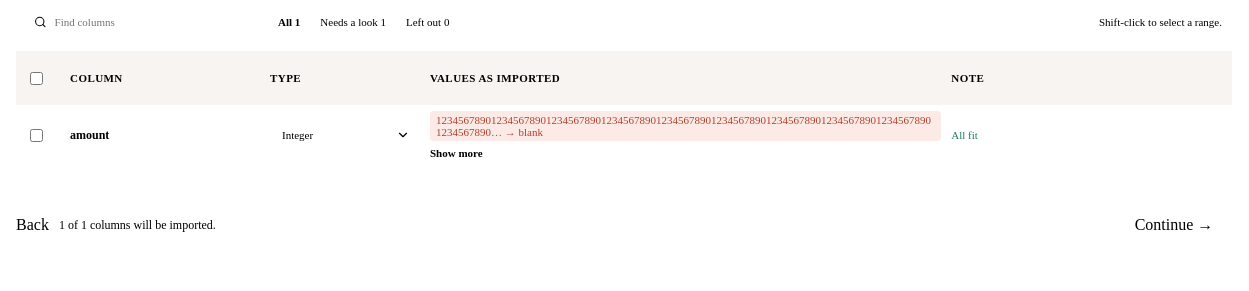
TableImportFlow › labels oversized samples as source excerpts and preserves the exact invalid outcome
Click the button with aria-label "Show more for amount" at [456, 153], box top-left (430, 147), bottom-right (483, 159)
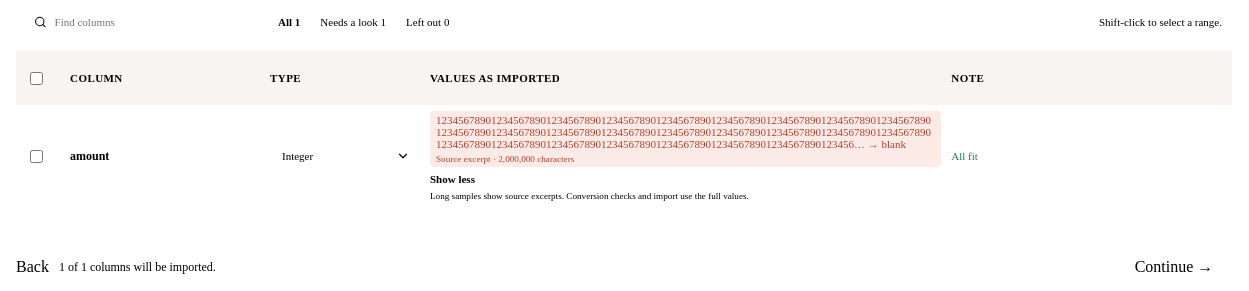
expect the text "Source excerpt · 2,000,000 characters" is shown: met, box top-left (436, 154), bottom-right (574, 164)
expect the text "Long samples show source excerpts. Conversion checks and import use the full values." is shown: met, box top-left (430, 191), bottom-right (749, 201)
